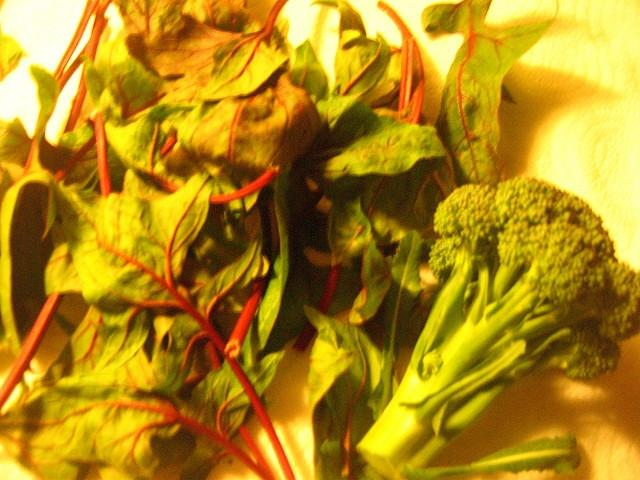broccoli: (356, 176, 639, 479)
